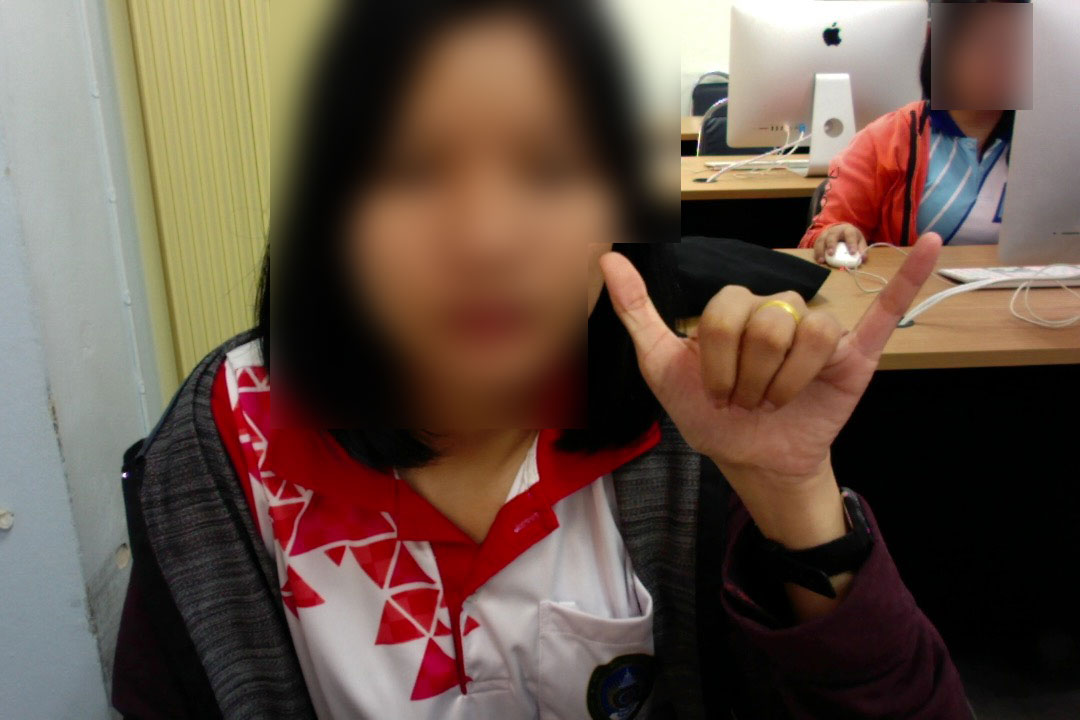yor: (592, 224, 952, 495)
